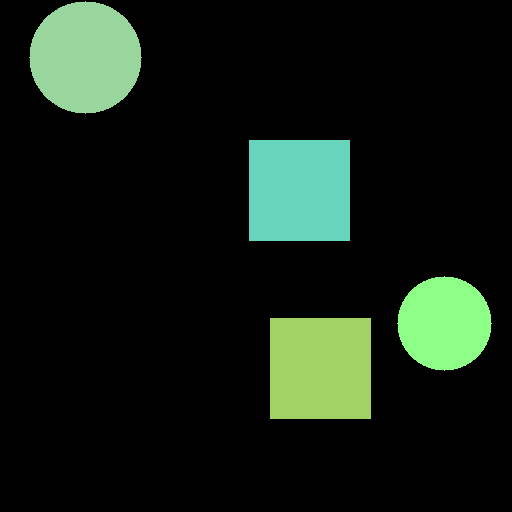circle: (29, 1, 141, 113), (397, 276, 491, 370)
square: (270, 318, 370, 418), (249, 140, 349, 240)
